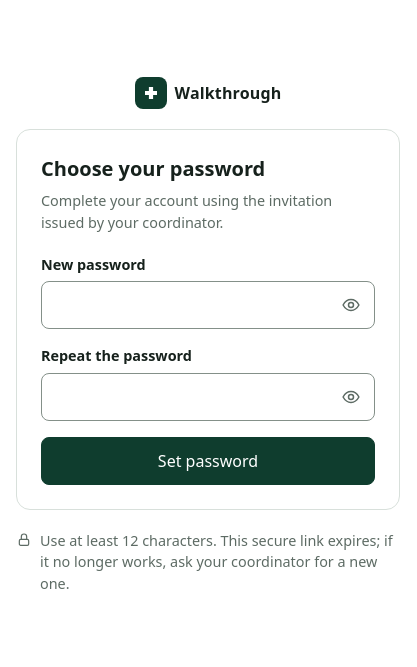
Scenario: AcceptInvitationRoute › no manda una contraseña de menos de 12 caracteres
Type "corta" into the password field labelled "New password" at (208, 305), box [41, 281, 375, 329]
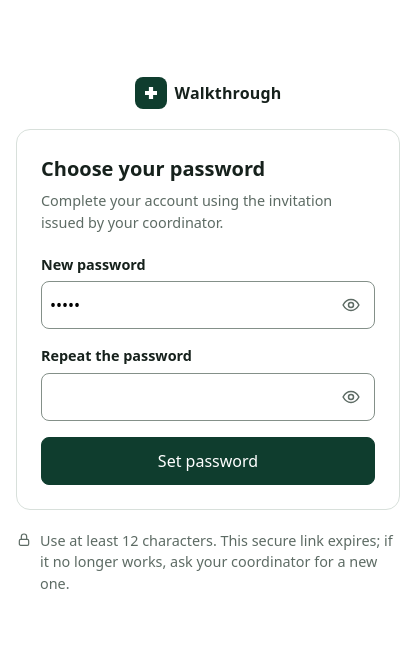
Type "corta" into the password field labelled "Repeat the password" at (208, 397), box [41, 373, 375, 421]
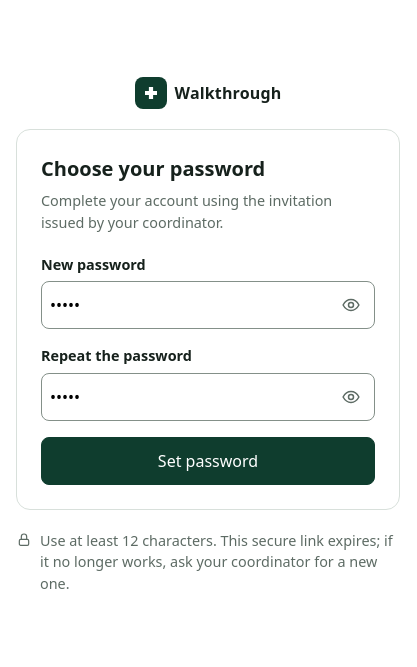
Click the button "Set password" at (208, 461), box [41, 437, 375, 485]
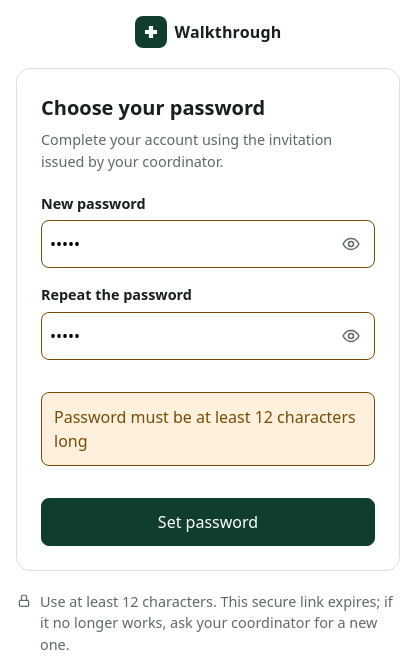
Expected: the message shows "at least 12 characters", [54, 406, 356, 452]
